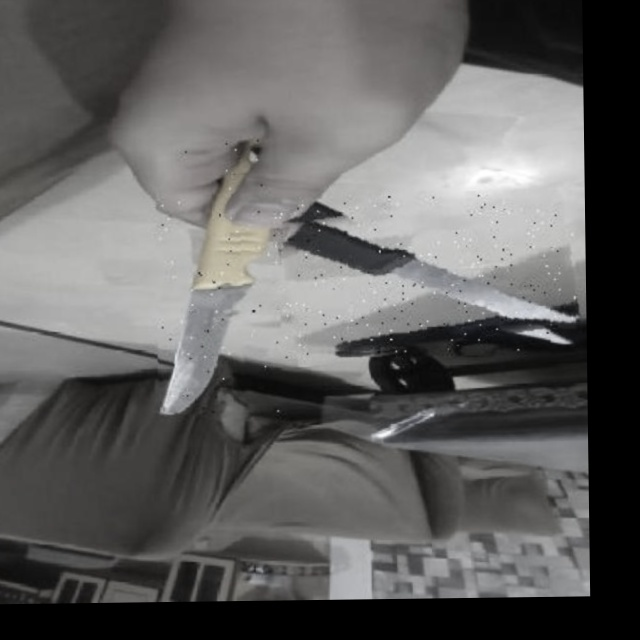Sharp-Object: (279, 193, 576, 357), (155, 138, 281, 413)
